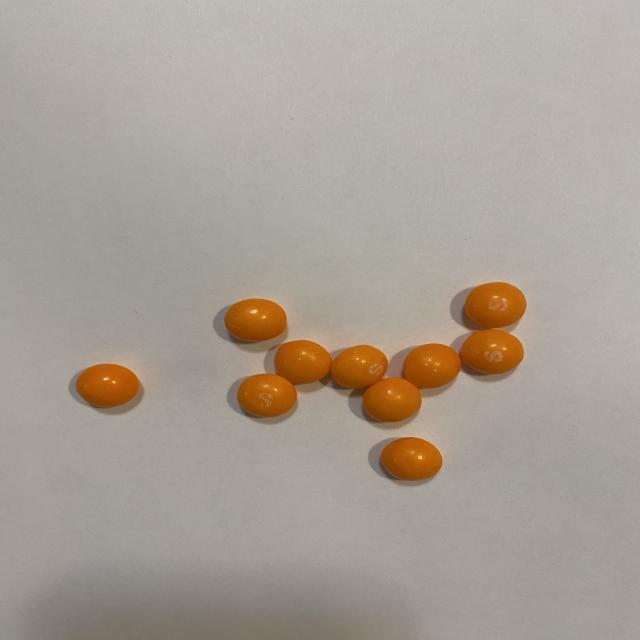smartie: (465, 282, 527, 328), (461, 330, 524, 375), (74, 364, 138, 408), (380, 438, 443, 481), (224, 299, 286, 342), (237, 374, 297, 418), (403, 344, 461, 389), (363, 378, 422, 422), (331, 345, 388, 389), (274, 340, 331, 384)
